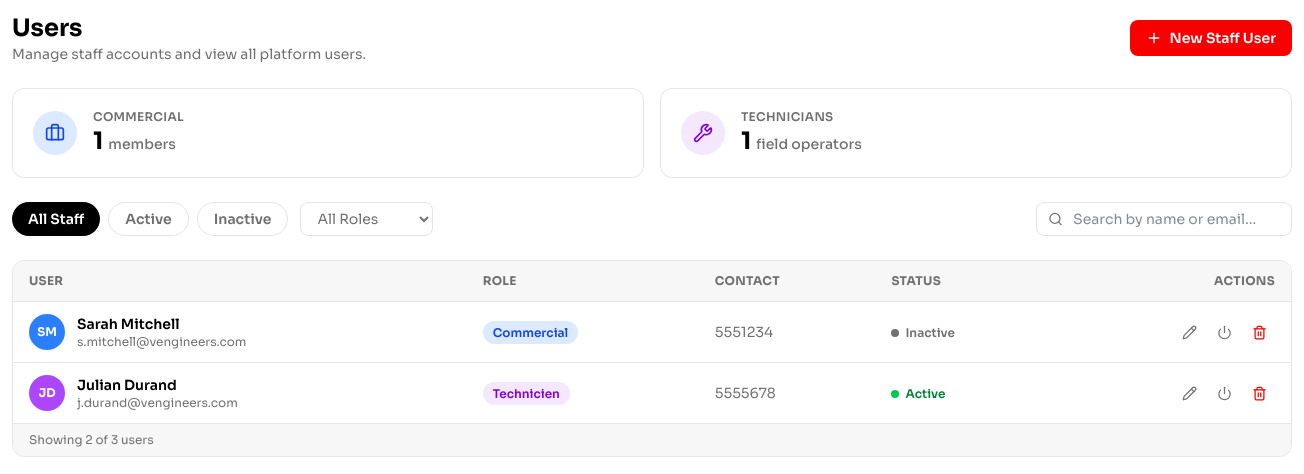
Test: Admin Users › filters client-side by Active/Inactive status
The image size is (1304, 474).
Expected: the text "Sarah Mitchell" is shown, x1=77 y1=315 x2=180 y2=333
Click the button "Active" at (148, 219), box x1=108 y1=202 x2=189 y2=236
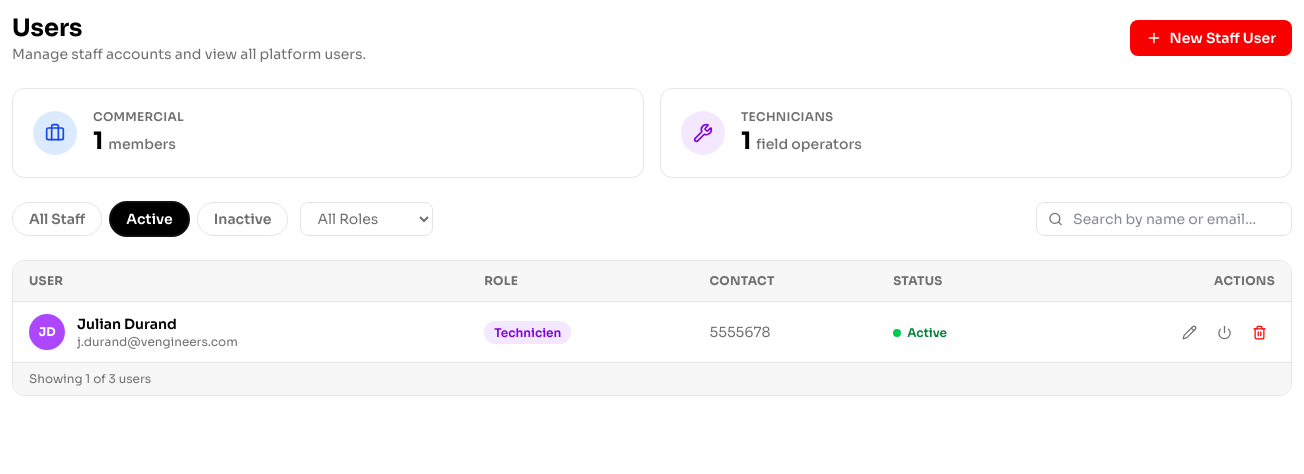
Expected: the text "Julian Durand" is shown, x1=77 y1=315 x2=177 y2=333
Expected: the text "Sarah Mitchell" is gone
Click the button "Inactive" at (243, 219), box x1=197 y1=202 x2=288 y2=236
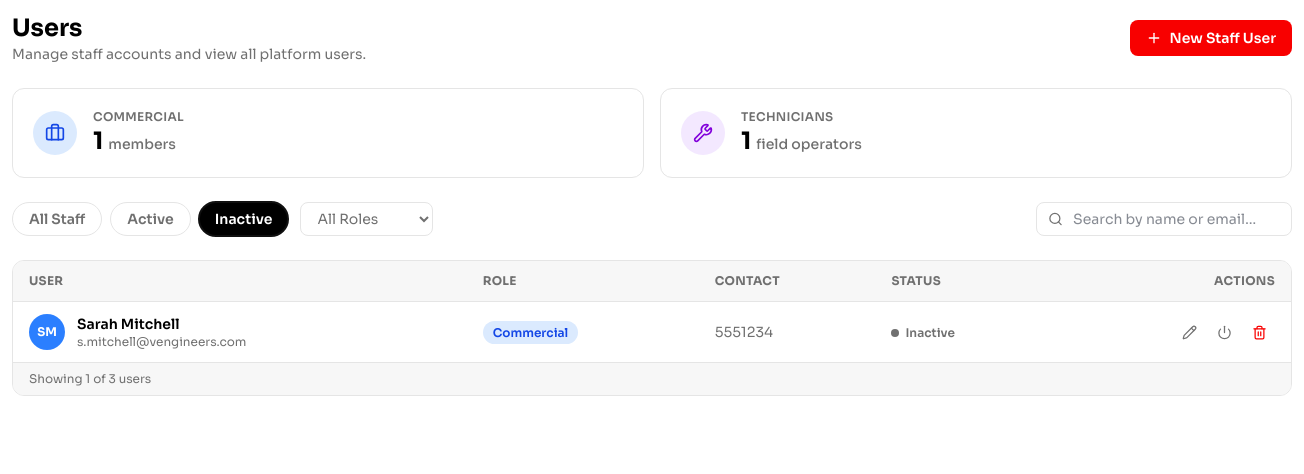
Expected: the text "Sarah Mitchell" is shown, x1=77 y1=315 x2=180 y2=333
Expected: the text "Julian Durand" is gone
